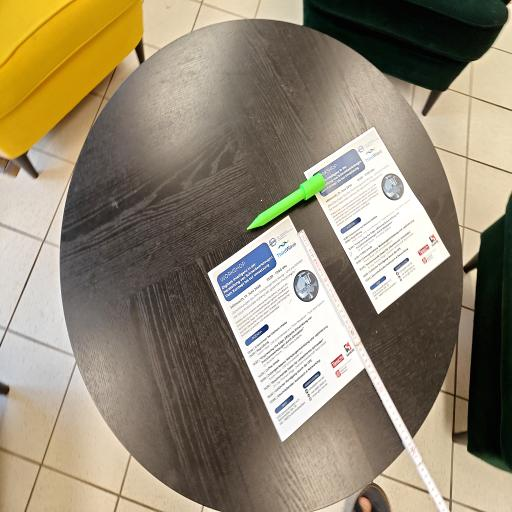Probe-Detection: (247, 172, 325, 230)
